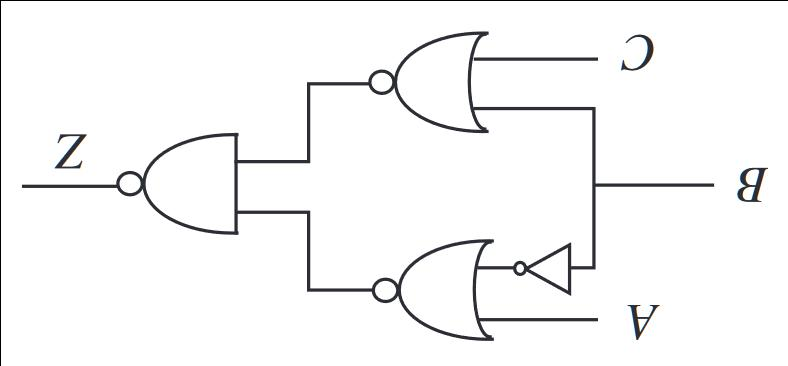nand: (103, 122, 253, 247)
nor: (336, 18, 514, 144), (348, 234, 506, 353)
not: (501, 226, 587, 302)
